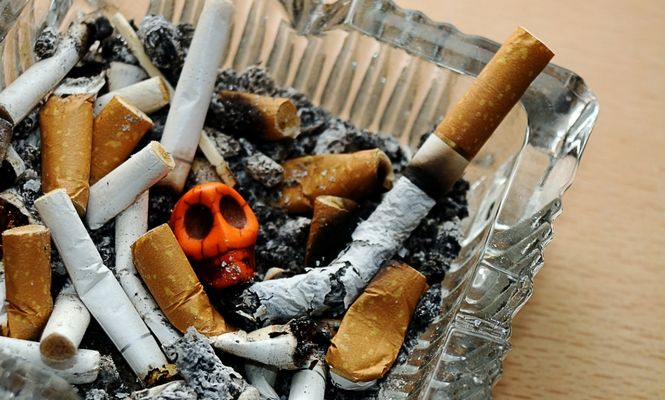cigarette: (385, 21, 560, 237)
